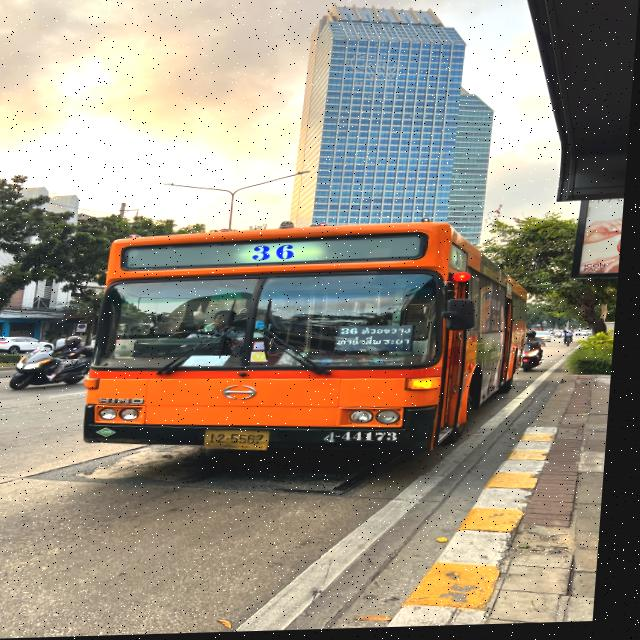BMTA-bus: (65, 214, 544, 470)
Bus-Line-Number: (249, 245, 305, 265)
Destination-Sign-Normal: (338, 326, 419, 355)
